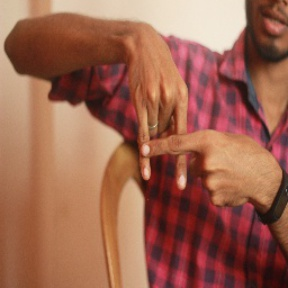H: (105, 80, 222, 200)
